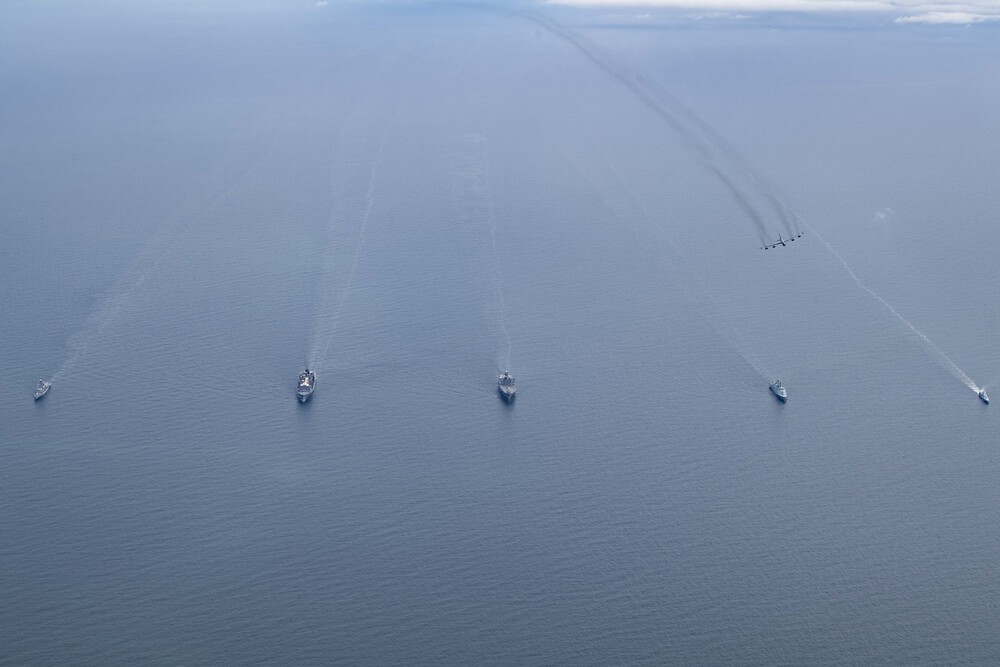B52: (756, 229, 808, 251)
